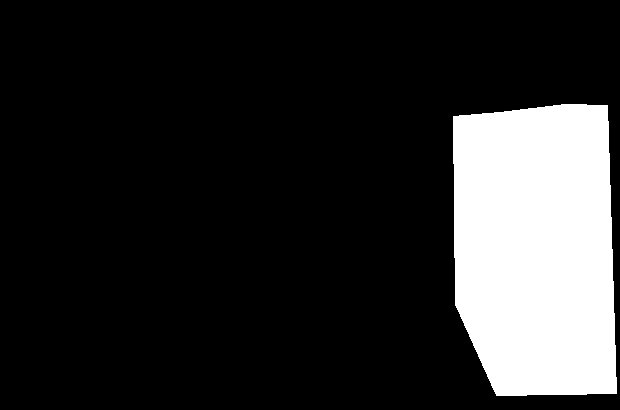type3s: (448, 101, 617, 400)
